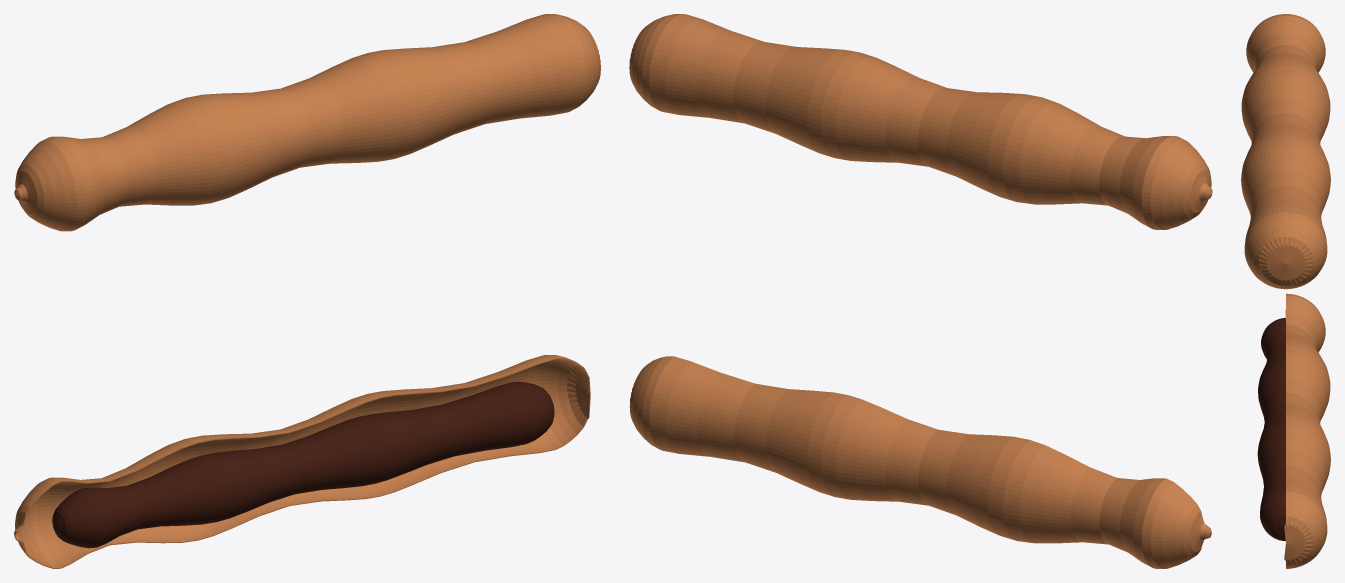
The model's file is Buah asam.fbx.
3 views of the same model, side by side, from view 1: azimuth 30°, elevation 25°; view 2: azimuth 150°, elevation 25°; view 3: azimuth 270°, elevation 25° (orthographic). The views are drawn at different scales.
Parts seen in each view (by area): view 1: Buah asam cangkang, Buah asam isi, Buah asam cangkang_cracked; view 2: Buah asam cangkang, Buah asam cangkang_cracked; view 3: Buah asam cangkang, Buah asam cangkang_cracked, Buah asam isi.
Boxes of the visible parts, x1=… form: Buah asam cangkang: x1=14, y1=14, x2=600, y2=231; Buah asam isi: x1=52, y1=381, x2=554, y2=548; Buah asam cangkang_cracked: x1=14, y1=355, x2=590, y2=568; Buah asam cangkang: x1=629, y1=14, x2=1212, y2=229; Buah asam cangkang_cracked: x1=629, y1=356, x2=1211, y2=568; Buah asam cangkang: x1=1241, y1=14, x2=1330, y2=289; Buah asam cangkang_cracked: x1=1284, y1=293, x2=1330, y2=568; Buah asam isi: x1=1257, y1=318, x2=1285, y2=540.
Bounding box in the file's own units: 6.83 × 4.98 × 1.12.
